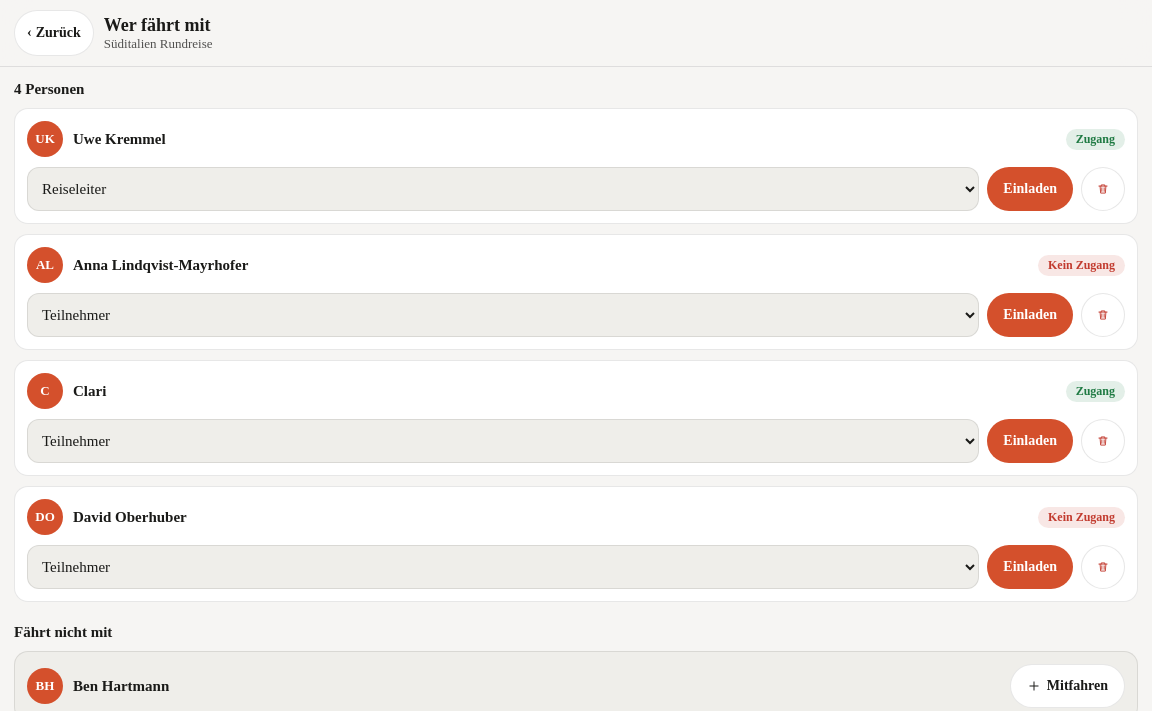
Test: „Wer fährt mit“ im Begleiter -- hinzufügen (req-087) › laesst Ben draussen, wenn das Speichern scheitert
This screenshot has width=1152, height=711.
What coordinates should you click on to do the following:
click the button with aria-label "Zur Reise hinzufügen: Ben Hartmann"
I would click on:
 (1067, 686)
Its box is [1010,664,1125,708].
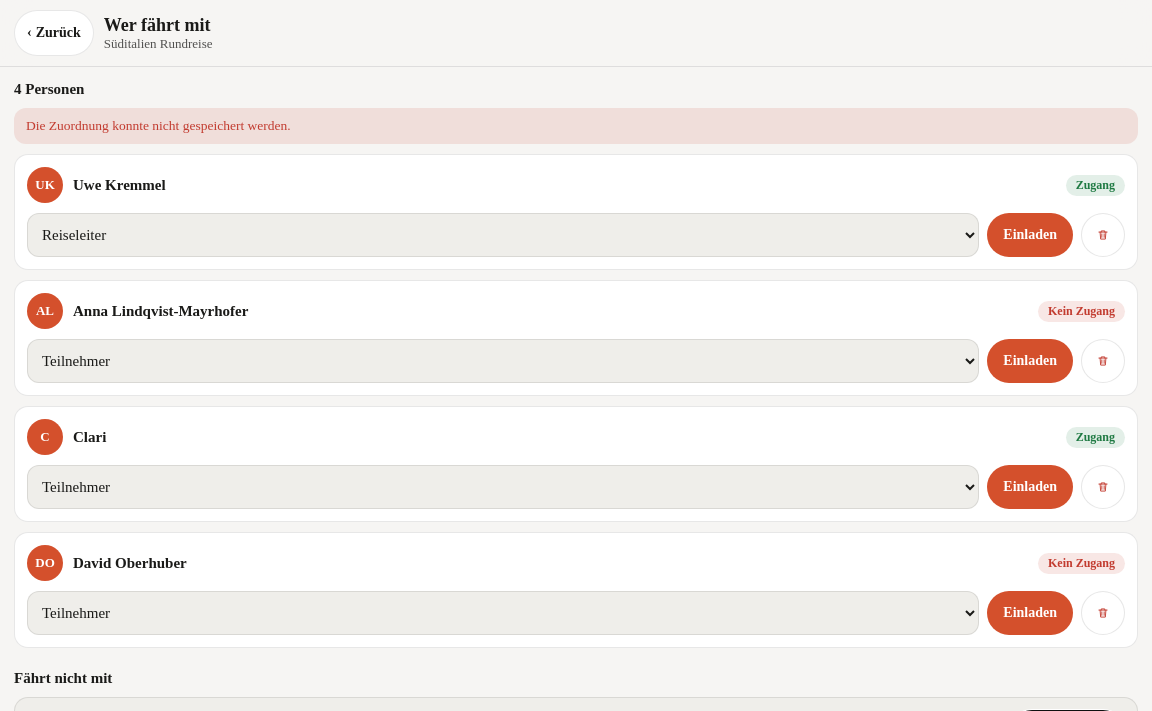
Now the message reads "Die Zuordnung konnte nicht gespeichert werden.", box [26,118,291,133]
